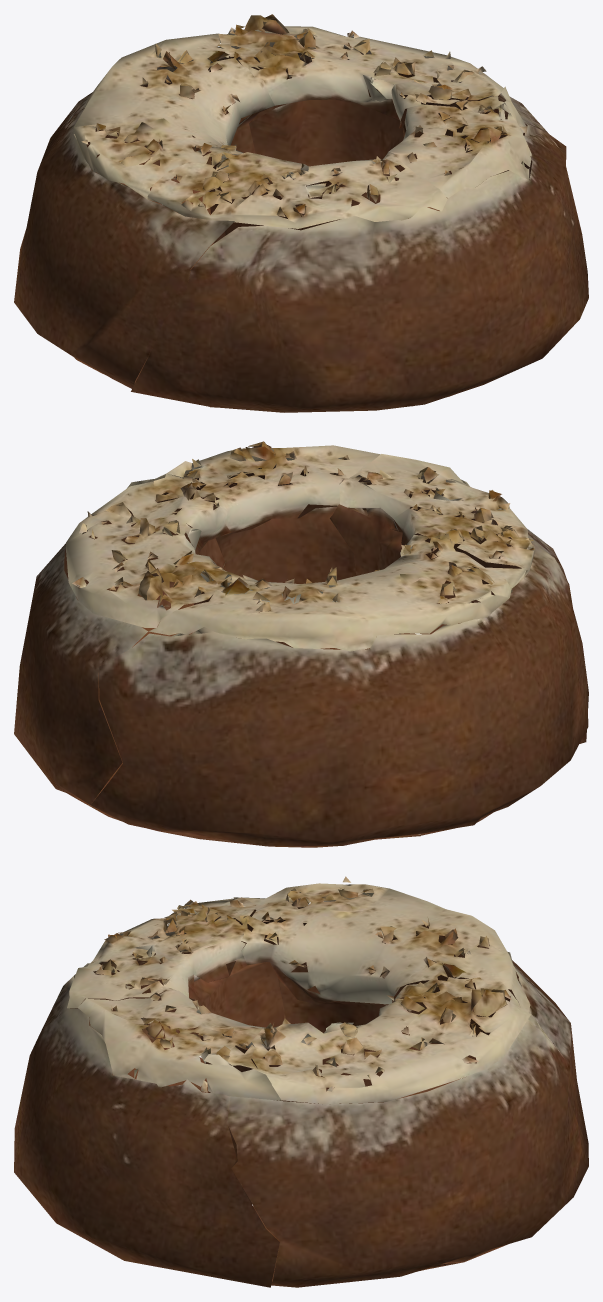
The model's file is carrot_cake.glb.
3 renders of one model, top to bottom at view 1: azimuth 30°, elevation 25°; view 2: azimuth 150°, elevation 25°; view 3: azimuth 270°, elevation 25°, orthographic. The views are drawn at different scales.
Visible parts, largest first — view 1: carrot_cake; view 2: carrot_cake; view 3: carrot_cake.
Boxes of the visible parts, x1=… form: carrot_cake: x1=14, y1=14, x2=588, y2=412; carrot_cake: x1=14, y1=441, x2=588, y2=847; carrot_cake: x1=14, y1=876, x2=588, y2=1287.
Size of the model in its own units: 0.2253 by 0.0975 by 0.2251.
Materials: 1 (1 with a texture image).
